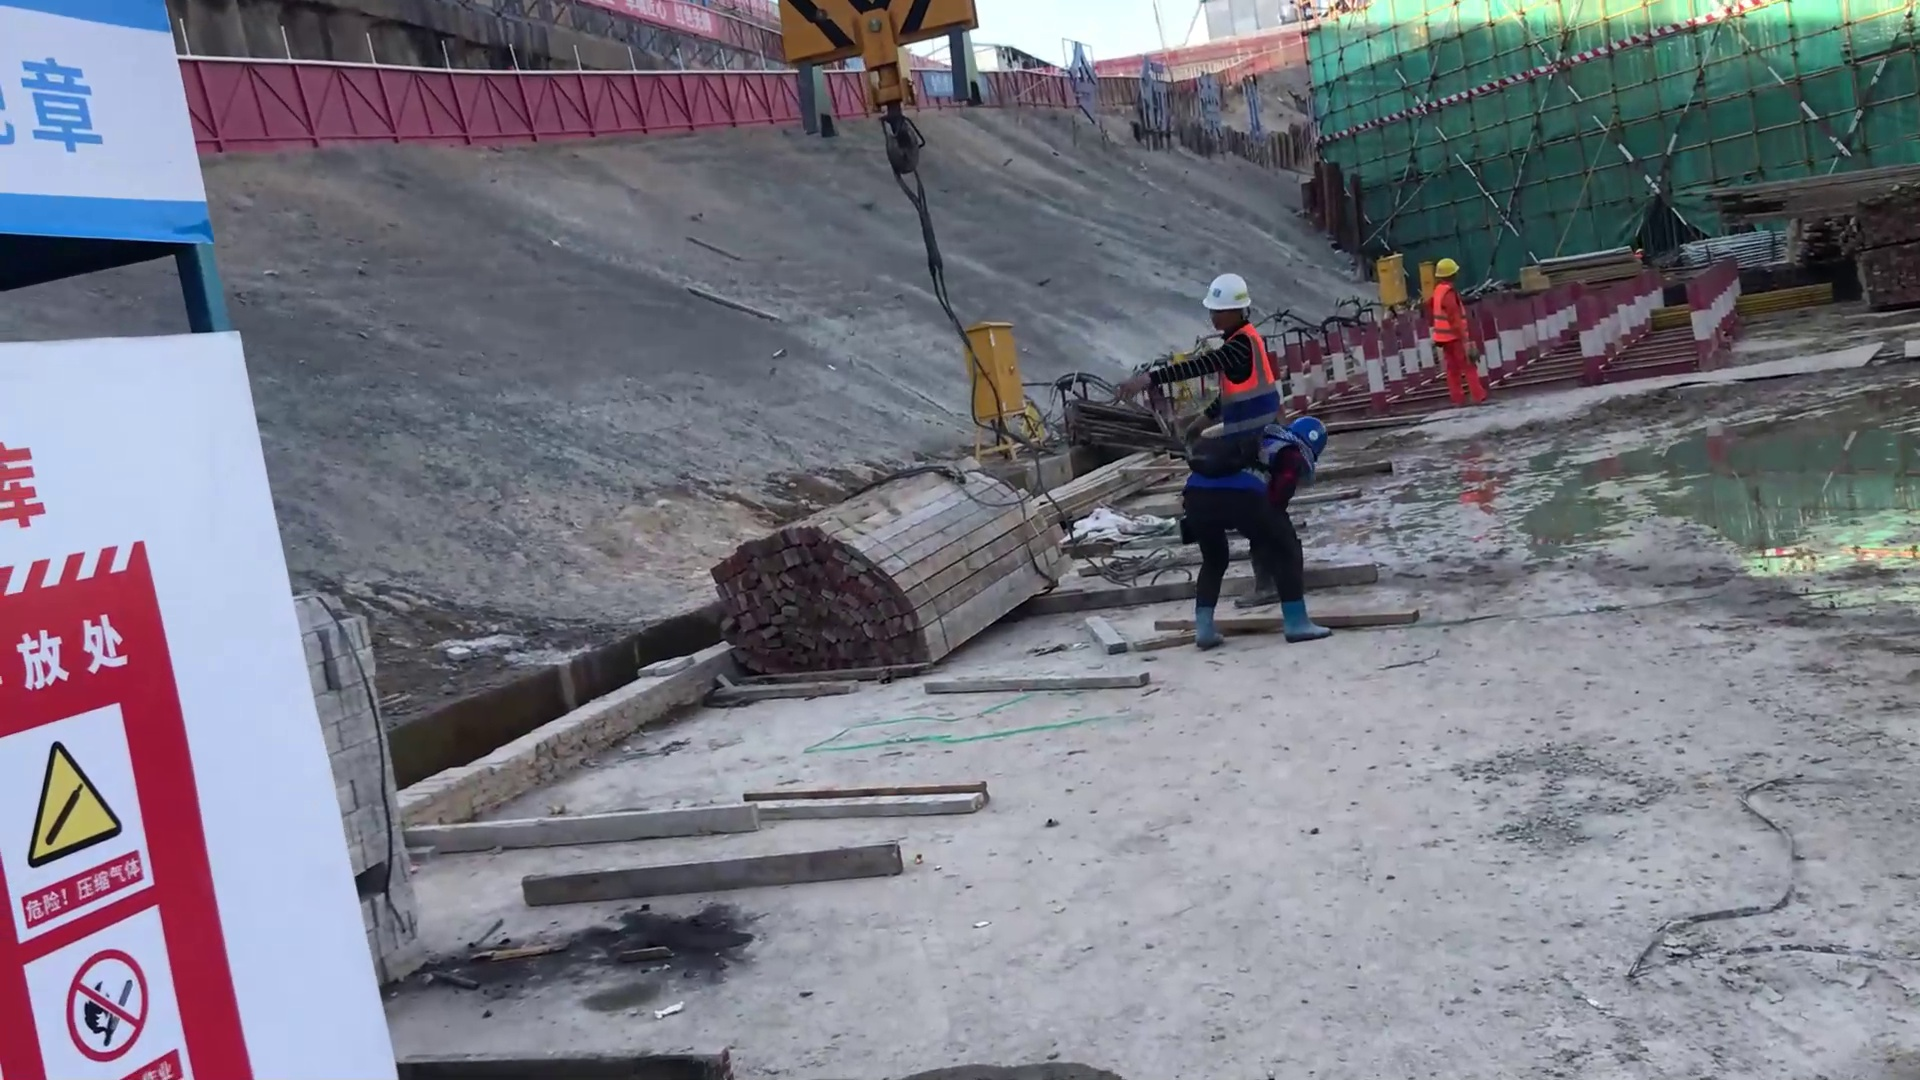brick: (280, 570, 489, 970)
ebox: (954, 301, 1033, 426), (1376, 253, 1407, 310)
fence: (192, 53, 773, 155)
helmet: (1191, 265, 1253, 310), (1280, 409, 1333, 460), (1430, 256, 1462, 280)
hook: (774, 2, 989, 192)
person: (1172, 416, 1337, 653), (1100, 275, 1289, 422), (1426, 258, 1497, 406)
slogan: (1, 706, 160, 930)
vest: (1206, 328, 1273, 398), (1429, 281, 1462, 344)
wood: (701, 455, 1088, 678), (1700, 155, 1920, 222)
